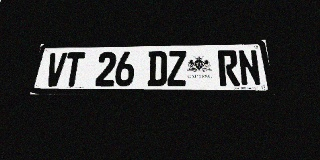2: (95, 52, 117, 86)
6: (114, 51, 135, 86)
D: (147, 51, 167, 86)
N: (237, 50, 262, 86)
R: (217, 50, 240, 86)
T: (62, 52, 85, 87)
V: (44, 53, 67, 87)
Z: (167, 51, 187, 86)
